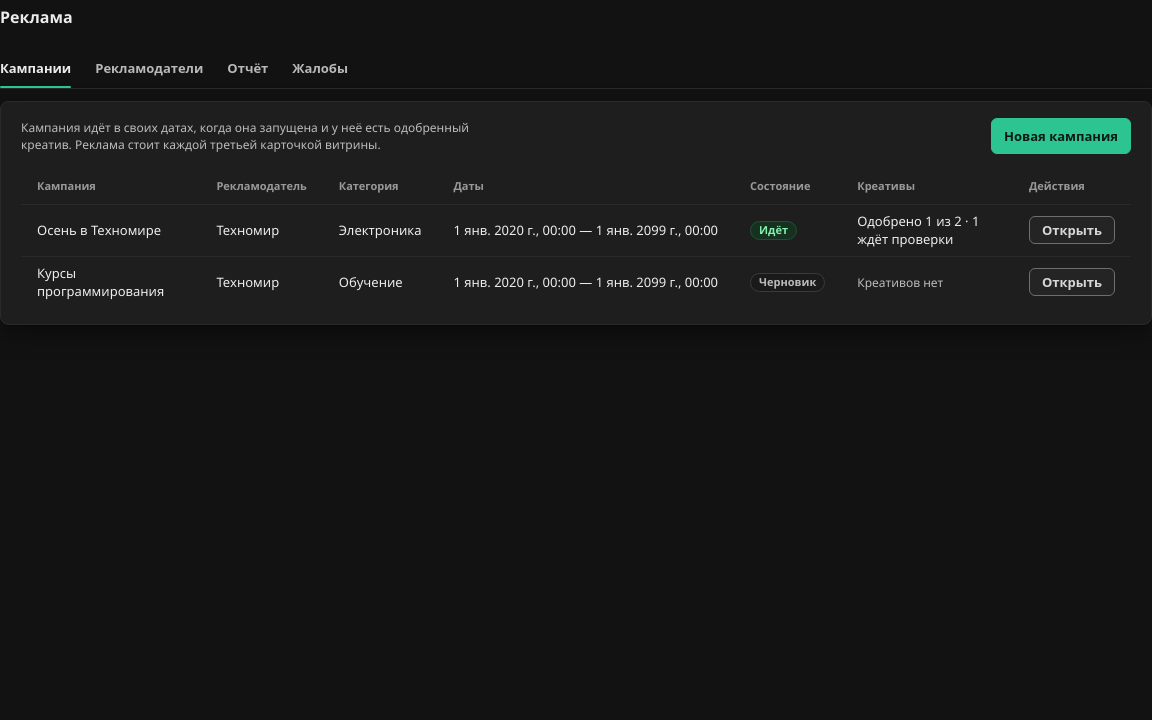
Test: AdsScreen — кампании › отказ сервера «нужно разрешение» называет словами
Expected: the text "Осень в Техномире" is shown, [21,204,200,256]
Click the button "Новая кампания" at point(1061, 136), box [991,118,1131,154]
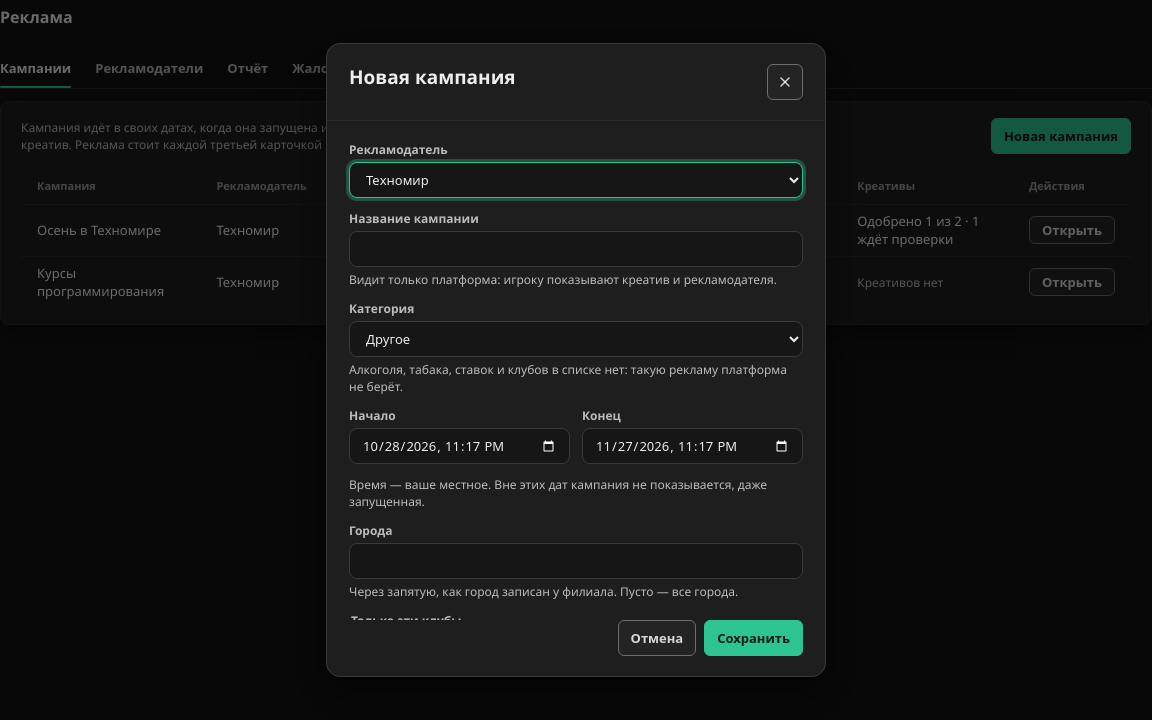
Type "Витамины" into the field labelled "Название кампании" at point(576, 249), box [349,231,803,267]
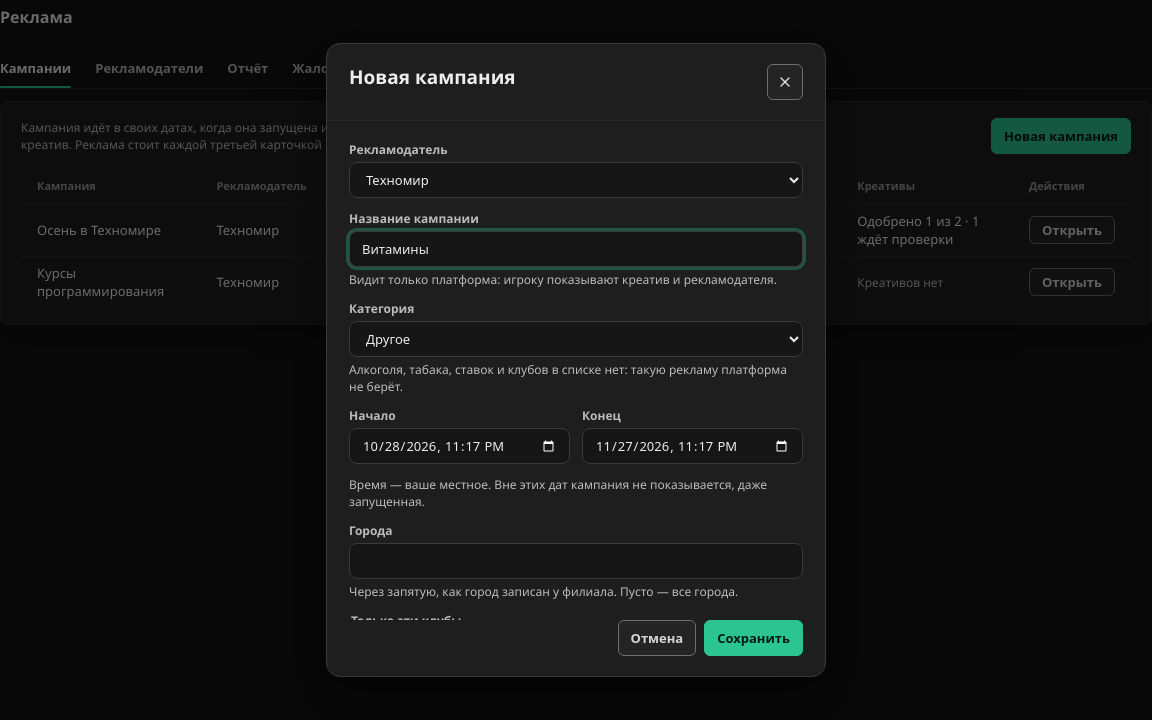
Click the button "Сохранить" at point(754, 638), box [704,620,803,656]
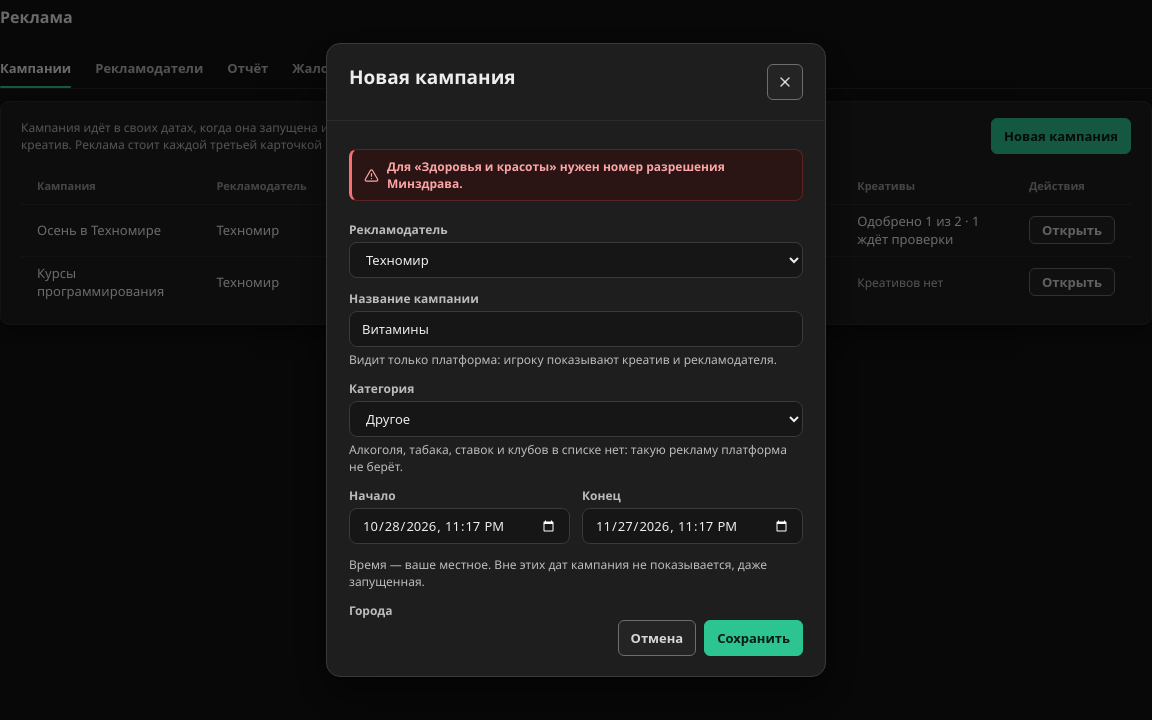
Expected: the message does not show "Ministry of Health", [349,149,803,201]
Result: the message reads "Для «Здоровья и красоты» нужен номер разрешения Минздрава." at [387,158,725,192]
